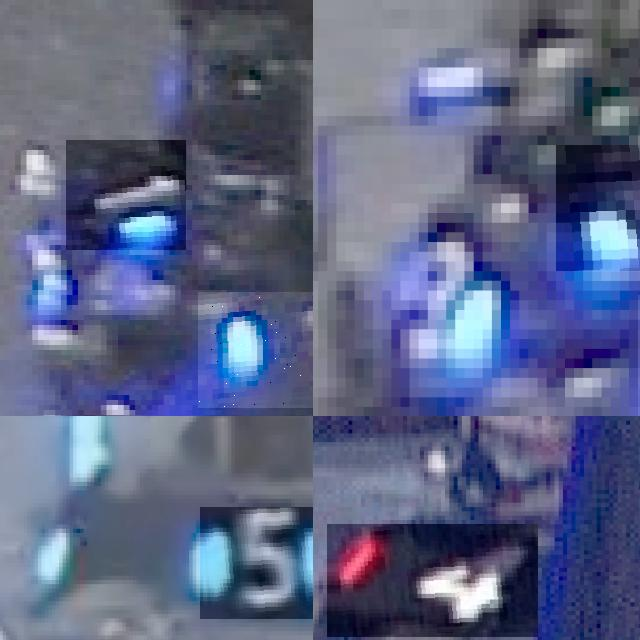B1: (198, 292, 313, 407), (66, 140, 186, 250)
B3: (373, 223, 510, 368), (555, 145, 640, 271)
B5: (200, 507, 313, 618)
R4: (327, 524, 538, 637)
